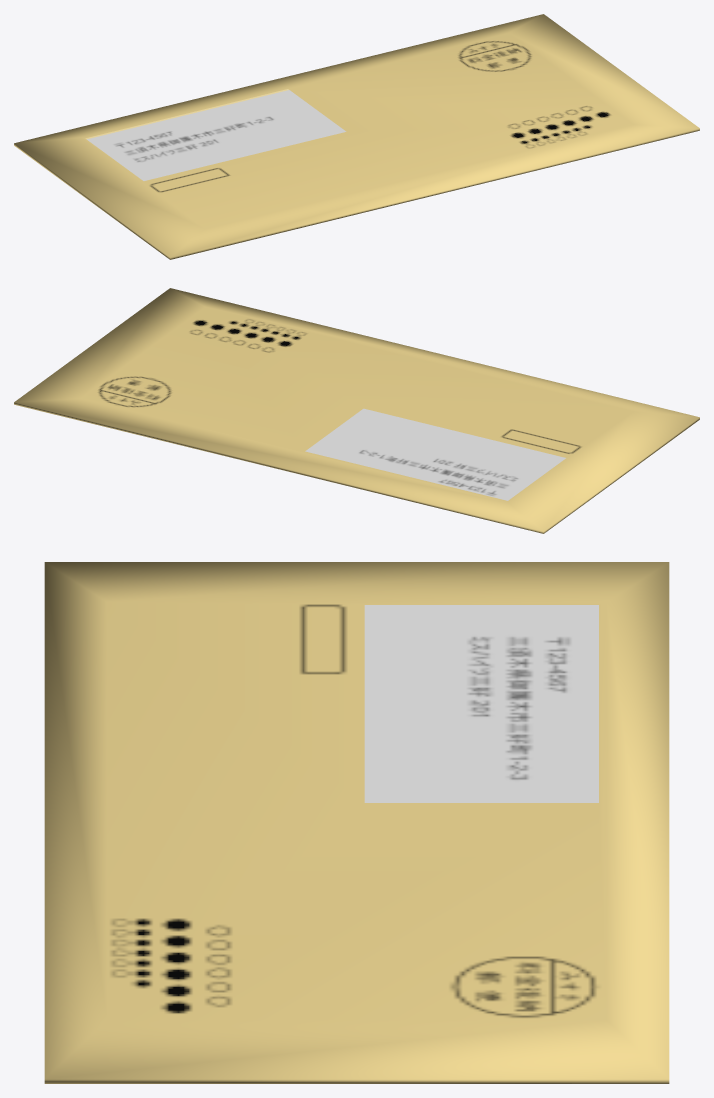
The model's file is envelope.glb.
3 renders of one model, top to bottom at view 1: azimuth 30°, elevation 25°; view 2: azimuth 150°, elevation 25°; view 3: azimuth 270°, elevation 25°, orthographic. The views are drawn at different scales.
Parts seen in each view (by area): view 1: Cube.002, Plane; view 2: Cube.002, Plane; view 3: Cube.002, Plane.
Boxes of the visible parts, x1,y1,x2,y2 form: Cube.002: [14, 14, 699, 259]; Plane: [87, 90, 346, 180]; Cube.002: [14, 288, 699, 533]; Plane: [305, 408, 565, 500]; Cube.002: [44, 562, 669, 1083]; Plane: [364, 605, 598, 802].
Size of the model in its own units: 0.235 by 0.005 by 0.12.
Materials: 3 (2 with a texture image).
